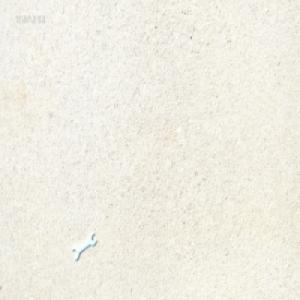Wrench: (74, 233, 98, 262)
